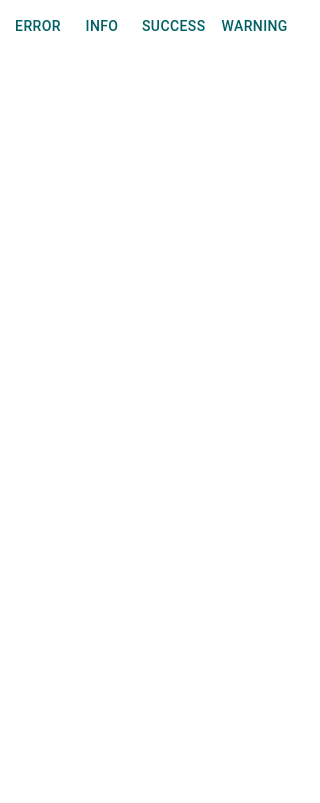
Scenario: Snackbar component › info
The width and height of the screenshot is (320, 803).
Click the button "info" at (102, 26), box [70,8,134,44]
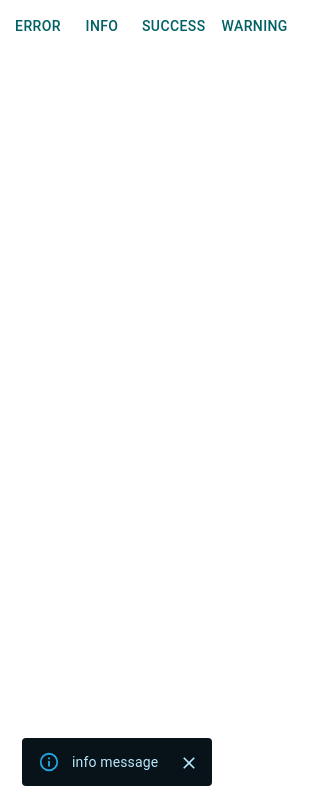
Expected: the icon with test id "InfoOutlinedIcon" is shown, [38,751,60,773]
